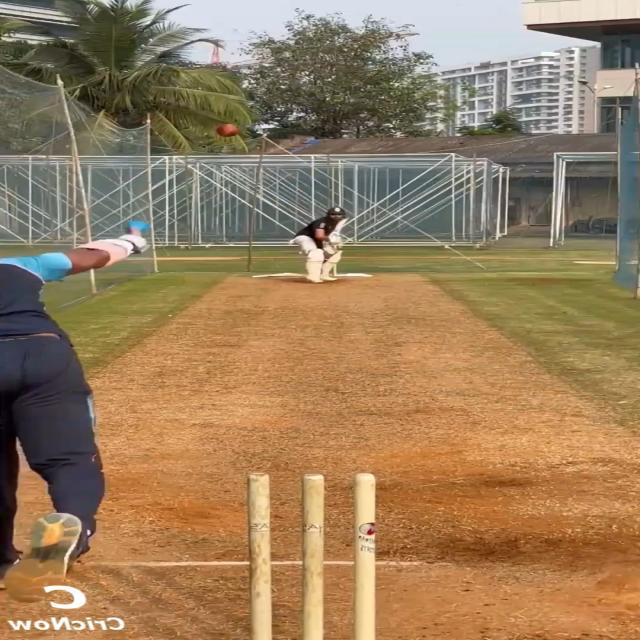ball: (214, 122, 243, 140)
stump: (249, 471, 374, 640)
